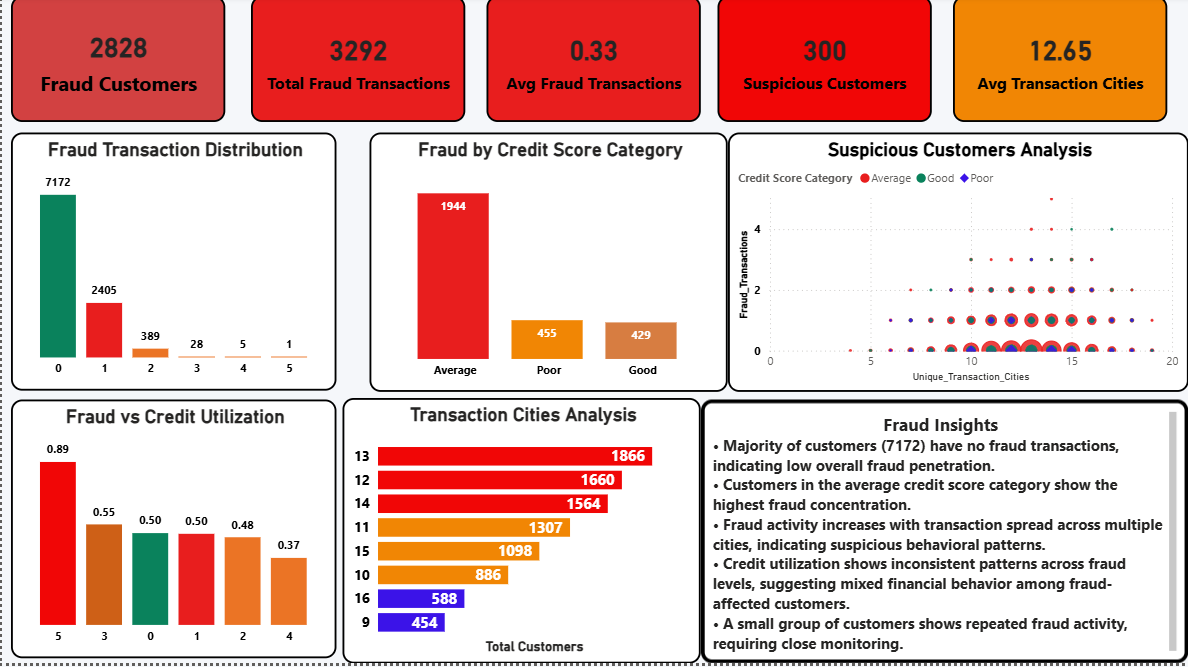

Layout of this report page (visuals, bound fields, positions):
{"tool":"powerbi","page":{"name":"Fraud Analysis","canvas":[1280,720],"ordinal":3},"visuals":[{"type":"card","fields":{"Values":["bank bank_analysis.Fraud Customers"]},"box":[9.7,0,231.5,136],"z":0},{"type":"card","fields":{"Values":["bank bank_analysis.Total Fraud Transactions"]},"box":[268.8,0,231.5,136],"z":1000},{"type":"card","fields":{"Values":["bank bank_analysis.Avg Fraud Transactions"]},"box":[523,0,231.5,136],"z":2000},{"type":"card","fields":{"Values":["bank bank_analysis.Suspicious Customers"]},"box":[772.4,0,231.5,136],"z":3000},{"type":"card","fields":{"Values":["bank bank_analysis.Avg Transaction Cities"]},"box":[1026.6,0,231.5,136],"z":4000},{"type":"clusteredColumnChart","title":"Fraud Transaction Distribution","fields":{"Category":["bank bank_analysis.Fraud_Transactions"],"Y":["bank bank_analysis.Total Customers"]},"box":[9.7,147.3,351.4,278.5],"z":5000},{"type":"clusteredColumnChart","title":"Fraud by Credit Score Category","fields":{"Category":["bank bank_analysis.Credit Score Category"],"Y":["bank bank_analysis.Fraud Customers"]},"box":[396.7,147.3,387,280.1],"z":6000},{"type":"scatterChart","title":"Suspicious Customers Analysis","fields":{"X":["bank bank_analysis.Unique_Transaction_Cities"],"Y":["bank bank_analysis.Fraud_Transactions"],"Size":["Sum(bank bank_analysis.CLV)"],"Series":["bank bank_analysis.Credit Score Category"]},"box":[783.7,147.3,497.1,280.1],"z":7000},{"type":"clusteredColumnChart","title":"Fraud vs Credit Utilization","fields":{"Category":["bank bank_analysis.Fraud_Transactions"],"Y":["bank bank_analysis.Avg Credit Utilization"]},"box":[10,436,351,279],"z":8000},{"type":"clusteredBarChart","title":"Transaction Cities Analysis","fields":{"Category":["bank bank_analysis.Unique_Transaction_Cities"],"Y":["bank bank_analysis.Total Customers"]},"box":[367.6,434,387,286.6],"z":8001},{"type":"textbox","box":[754.6,435.6,526.2,285],"z":8002}]}

Visuals, with their boxes in screenshot pixels (x1, y1, x2, y2), scaled from the page's 1280x720 canvas onto the 1188x667 screenshot:
card - bank bank_analysis.Fraud Customers: rect(9, 0, 224, 126)
card - bank bank_analysis.Total Fraud Transactions: rect(249, 0, 464, 126)
card - bank bank_analysis.Avg Fraud Transactions: rect(485, 0, 700, 126)
card - bank bank_analysis.Suspicious Customers: rect(717, 0, 932, 126)
card - bank bank_analysis.Avg Transaction Cities: rect(953, 0, 1168, 126)
"Fraud Transaction Distribution" clusteredColumnChart: rect(9, 136, 335, 394)
"Fraud by Credit Score Category" clusteredColumnChart: rect(368, 136, 727, 396)
"Suspicious Customers Analysis" scatterChart: rect(727, 136, 1187, 396)
"Fraud vs Credit Utilization" clusteredColumnChart: rect(9, 404, 335, 662)
"Transaction Cities Analysis" clusteredBarChart: rect(341, 402, 700, 666)
textbox: rect(700, 404, 1187, 666)
